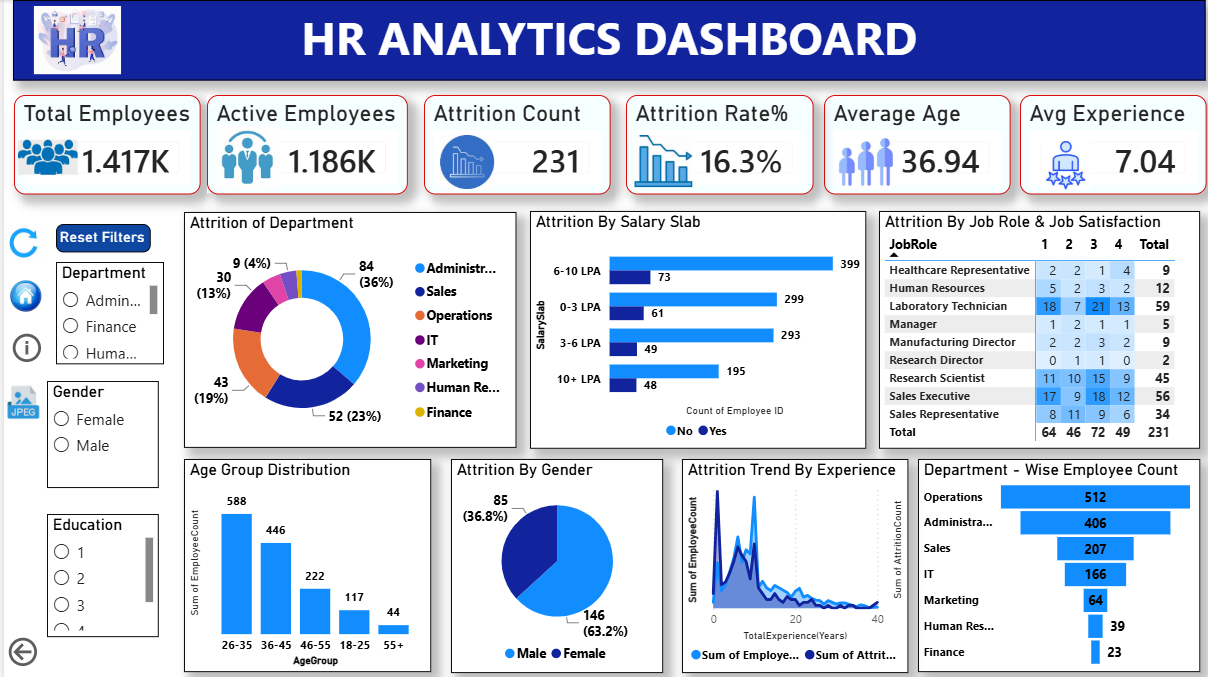

What the dashboard file says about the page in this screenshot:
{"tool":"powerbi","page":{"name":"Page 1","canvas":[1280,720],"ordinal":0},"visuals":[{"type":"textbox","box":[10,0,1259,85],"z":0},{"type":"image","box":[29.3,6.7,95.9,71.9],"z":1000},{"type":"cardVisual","title":"Total Employees","fields":{"Data":["CountNonNull(HR_Analytics-4 (1).EmpIoyee ID)"]},"box":[10.7,99.9,197.1,105.2],"z":2000},{"type":"cardVisual","title":"Attrition Count","fields":{"Data":["Sum(HR_Analytics-4 (1).AttritionCount)"]},"box":[443.5,99.9,197.1,105.2],"z":3000},{"type":"cardVisual","title":"Average Age","fields":{"Data":["Avg(HR_Analytics-4 (1).Age)"]},"box":[865.8,99.9,197.1,105.2],"z":4000},{"type":"cardVisual","title":"Avg Experience","fields":{"Data":["Avg(HR_Analytics-4 (1).YearsatCompany)"]},"box":[1072.2,99.9,197.1,105.2],"z":5000},{"type":"cardVisual","fields":{"Data":["CountNonNull(HR_Analytics-4 (1).EmployeeCount)"],"Rows":["HR_Analytics-4 (1).Attrition"]},"box":[214.2,100.3,197.1,103.7],"z":6000},{"type":"cardVisual","title":"Active Employees","fields":{"Data":["CountNonNull(HR_Analytics-4 (1).EmpIoyee ID)"]},"box":[214.4,99.9,211.8,105.2],"z":7000},{"type":"cardVisual","title":"Attrition Rate%","fields":{"Data":["HR_Analytics-4 (1).Attrition Rate %"]},"box":[656.6,99.9,198.5,105.2],"z":8000},{"type":"image","box":[443.5,142.5,90.6,57.3],"z":9000},{"type":"image","box":[879.1,142.5,61.3,57.3],"z":10000},{"type":"image","box":[1086.9,149.2,66.6,50.6],"z":11000},{"type":"image","box":[14.7,142.5,62.6,46.6],"z":12000},{"type":"image","box":[207.8,131.9,98.6,67.9],"z":13000},{"type":"image","box":[656.6,142.5,78.6,54.6],"z":14000},{"type":"donutChart","title":"Attrition of Department","fields":{"Category":["HR_Analytics-4 (1).Department"],"Y":["Sum(HR_Analytics-4 (1).AttritionCount)"]},"box":[190.3,223.3,350.9,249.5],"z":15000},{"type":"clusteredBarChart","title":"Attrition By Salary Slab","fields":{"Category":["HR_Analytics-4 (1).SalarySlab"],"Y":["CountNonNull(HR_Analytics-4 (1).EmpIoyee ID)"],"Series":["HR_Analytics-4 (1).Attrition"]},"box":[555.2,222.3,354.7,250.6],"z":16000},{"type":"pivotTable","title":"Attrition By Job Role & Job Satisfaction","fields":{"Rows":["HR_Analytics-4 (1).JobRole"],"Values":["Sum(HR_Analytics-4 (1).AttritionCount)"],"Columns":["HR_Analytics-4 (1).JobSatisfaction"]},"box":[924,222.3,339.3,250.6],"z":17000},{"type":"columnChart","title":" Age Group Distribution","fields":{"Category":["HR_Analytics-4 (1).AgeGroup"],"Y":["Sum(HR_Analytics-4 (1).EmployeeCount)"]},"box":[190.2,484.5,260.9,224.9],"z":18000},{"type":"pieChart","title":"Attrition By Gender","fields":{"Category":["HR_Analytics-4 (1).Gender"],"Y":["Sum(HR_Analytics-4 (1).AttritionCount)"]},"box":[471.6,484.2,224.4,225.6],"z":19000},{"type":"areaChart","title":"Attrition Trend By Experience","fields":{"Category":["HR_Analytics-4 (1).TotalExperience(Years)"],"Y2":["Sum(HR_Analytics-4 (1).AttritionCount)"],"Y":["Sum(HR_Analytics-4 (1).EmployeeCount)"]},"box":[715.4,484.2,239.2,225.6],"z":20000},{"type":"funnel","title":" Department - Wise Employee Count","fields":{"Category":["HR_Analytics-4 (1).Department"],"Y":["CountNonNull(HR_Analytics-4 (1).EmpIoyee ID)"]},"box":[965.1,484.5,298.2,224.9],"z":21000},{"type":"listSlicer","fields":{"Values":["HR_Analytics-4 (1).Department"]},"box":[54.7,276.8,113.9,108.2],"z":21001},{"type":"listSlicer","fields":{"Values":["HR_Analytics-4 (1).Gender"]},"box":[45.6,402.2,118.5,112.8],"z":21002},{"type":"listSlicer","fields":{"Values":["HR_Analytics-4 (1).Education"]},"box":[45.6,542.3,118.5,129.9],"z":21003},{"type":"actionButton","title":"Reset Filters","box":[54.7,237,100.3,29.6],"z":21004},{"type":"actionButton","box":[0,668.7,100.3,39.9],"z":21006},{"type":"actionButton","box":[4.6,347.5,45.6,39.9],"z":21007},{"type":"image","box":[0,293.9,45.6,37.6],"z":21008},{"type":"image","box":[0,237,41,39.9],"z":21009},{"type":"image","box":[0,402.2,41,45.6],"z":21010}]}

Visuals, with their boxes in screenshot pixels (x1, y1, x2, y2), scaled from the page's 1280x720 canvas onto the 1208x677 screenshot:
textbox: {"x1": 9, "y1": 0, "x2": 1198, "y2": 80}
image: {"x1": 28, "y1": 6, "x2": 118, "y2": 74}
"Total Employees" cardVisual: {"x1": 10, "y1": 94, "x2": 196, "y2": 193}
"Attrition Count" cardVisual: {"x1": 419, "y1": 94, "x2": 605, "y2": 193}
"Average Age" cardVisual: {"x1": 817, "y1": 94, "x2": 1003, "y2": 193}
"Avg Experience" cardVisual: {"x1": 1012, "y1": 94, "x2": 1198, "y2": 193}
cardVisual - CountNonNull(HR_Analytics-4 (1).EmployeeCount) x HR_Analytics-4 (1).Attrition: {"x1": 202, "y1": 94, "x2": 388, "y2": 192}
"Active Employees" cardVisual: {"x1": 202, "y1": 94, "x2": 402, "y2": 193}
"Attrition Rate%" cardVisual: {"x1": 620, "y1": 94, "x2": 807, "y2": 193}
image: {"x1": 419, "y1": 134, "x2": 504, "y2": 188}
image: {"x1": 830, "y1": 134, "x2": 888, "y2": 188}
image: {"x1": 1026, "y1": 140, "x2": 1089, "y2": 188}
image: {"x1": 14, "y1": 134, "x2": 73, "y2": 178}
image: {"x1": 196, "y1": 124, "x2": 289, "y2": 188}
image: {"x1": 620, "y1": 134, "x2": 694, "y2": 185}
"Attrition of Department" donutChart: {"x1": 180, "y1": 210, "x2": 511, "y2": 445}
"Attrition By Salary Slab" clusteredBarChart: {"x1": 524, "y1": 209, "x2": 859, "y2": 445}
"Attrition By Job Role & Job Satisfaction" pivotTable: {"x1": 872, "y1": 209, "x2": 1192, "y2": 445}
" Age Group Distribution" columnChart: {"x1": 180, "y1": 456, "x2": 426, "y2": 667}
"Attrition By Gender" pieChart: {"x1": 445, "y1": 455, "x2": 657, "y2": 667}
"Attrition Trend By Experience" areaChart: {"x1": 675, "y1": 455, "x2": 901, "y2": 667}
" Department - Wise Employee Count" funnel: {"x1": 911, "y1": 456, "x2": 1192, "y2": 667}
listSlicer - HR_Analytics-4 (1).Department: {"x1": 52, "y1": 260, "x2": 159, "y2": 362}
listSlicer - HR_Analytics-4 (1).Gender: {"x1": 43, "y1": 378, "x2": 155, "y2": 484}
listSlicer - HR_Analytics-4 (1).Education: {"x1": 43, "y1": 510, "x2": 155, "y2": 632}
"Reset Filters" actionButton: {"x1": 52, "y1": 223, "x2": 146, "y2": 251}
actionButton: {"x1": 0, "y1": 629, "x2": 95, "y2": 666}
actionButton: {"x1": 4, "y1": 327, "x2": 47, "y2": 364}
image: {"x1": 0, "y1": 276, "x2": 43, "y2": 312}
image: {"x1": 0, "y1": 223, "x2": 39, "y2": 260}
image: {"x1": 0, "y1": 378, "x2": 39, "y2": 421}
